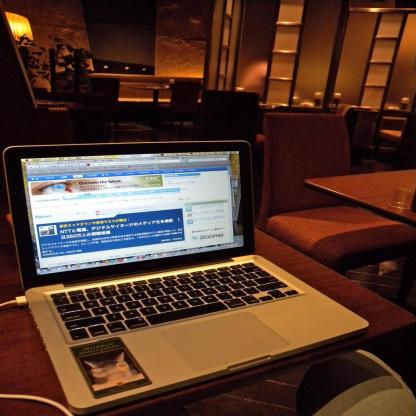board: (4, 136, 347, 412)
